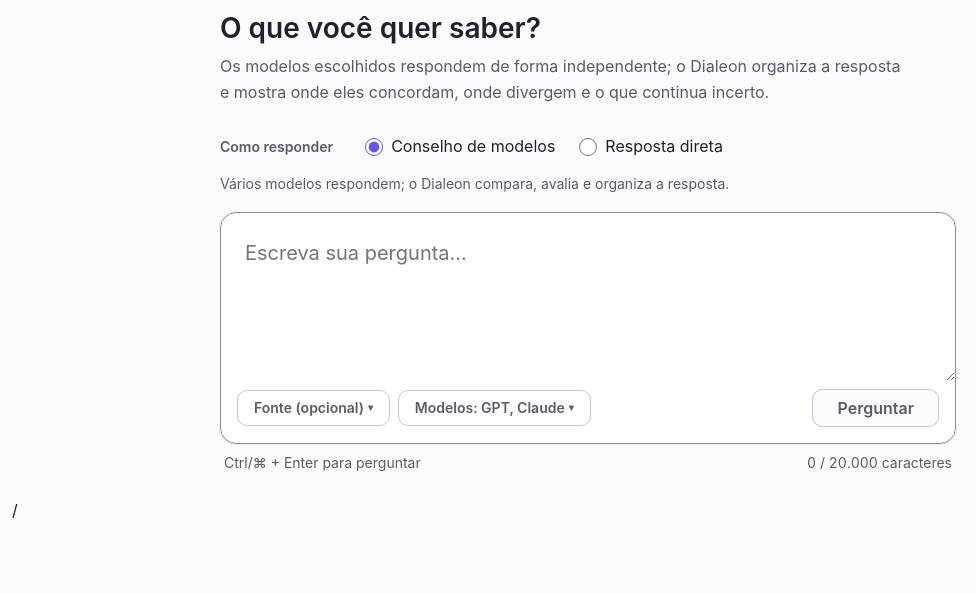
Test: Home › quórum insuficiente sem run_id: aviso neutro (não erro), sem navegação
Expected: the button "Modelos: GPT, Claude ▾" is shown, 398,390 -> 591,426
Type "pergunta" into the text box named "faça uma pergunta" at coordinates (588, 297), box 221,213 -> 955,381
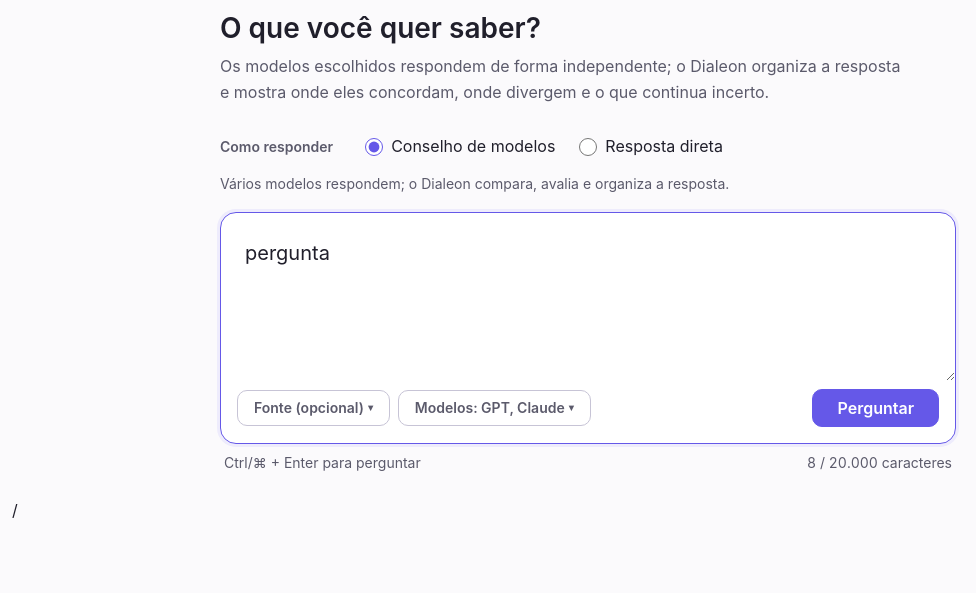
Click the button "Perguntar" at coordinates (876, 408), box 812,389 -> 939,427
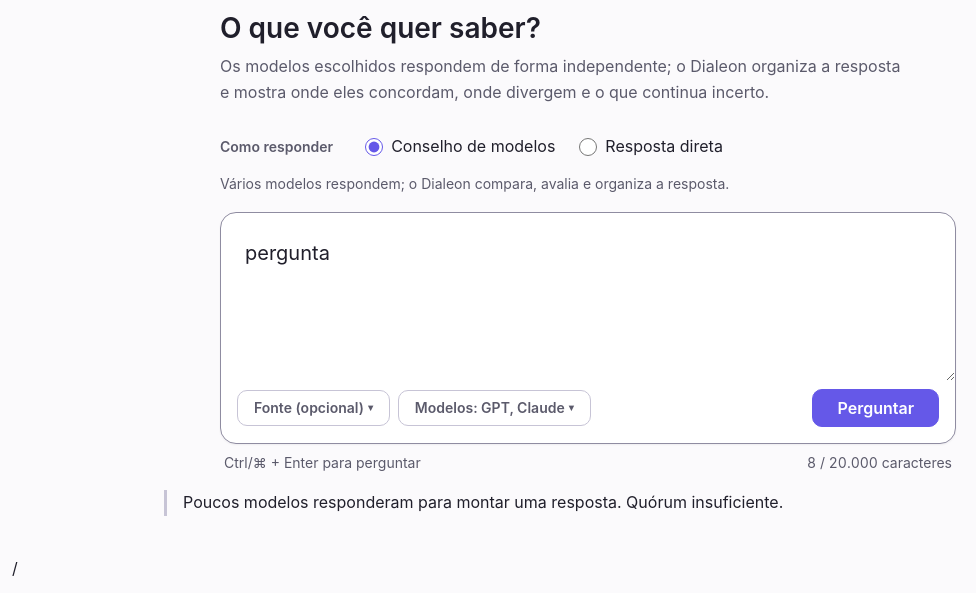
Now the message shows "Poucos modelos responderam para montar uma resposta", box 183,492 -> 622,512
